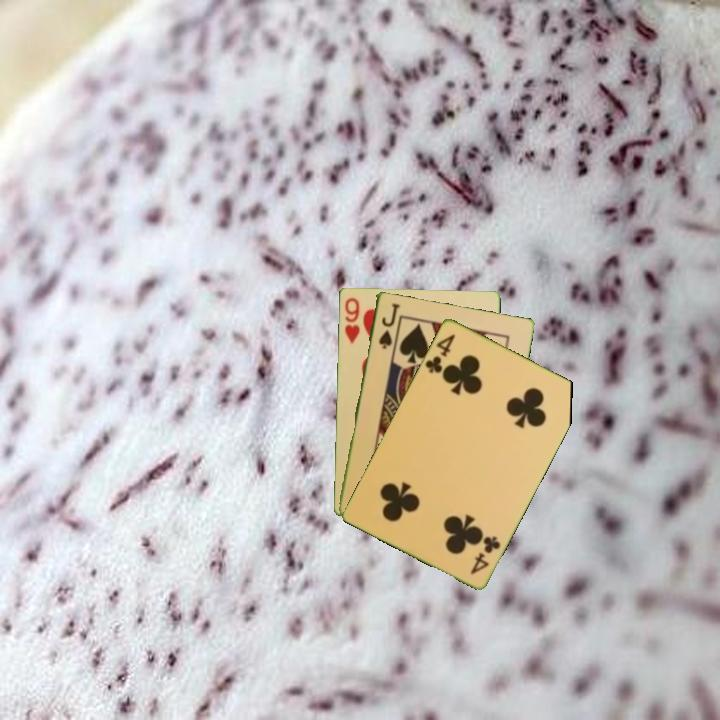4c: (421, 330, 458, 376), (467, 532, 503, 577)
9h: (341, 294, 362, 346)
Js: (375, 299, 400, 351)
